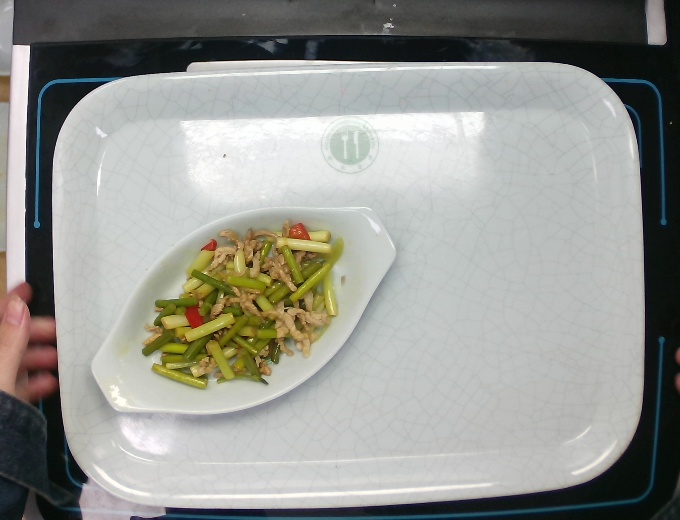JYsf-Yu_Pan: (88, 203, 398, 420)
